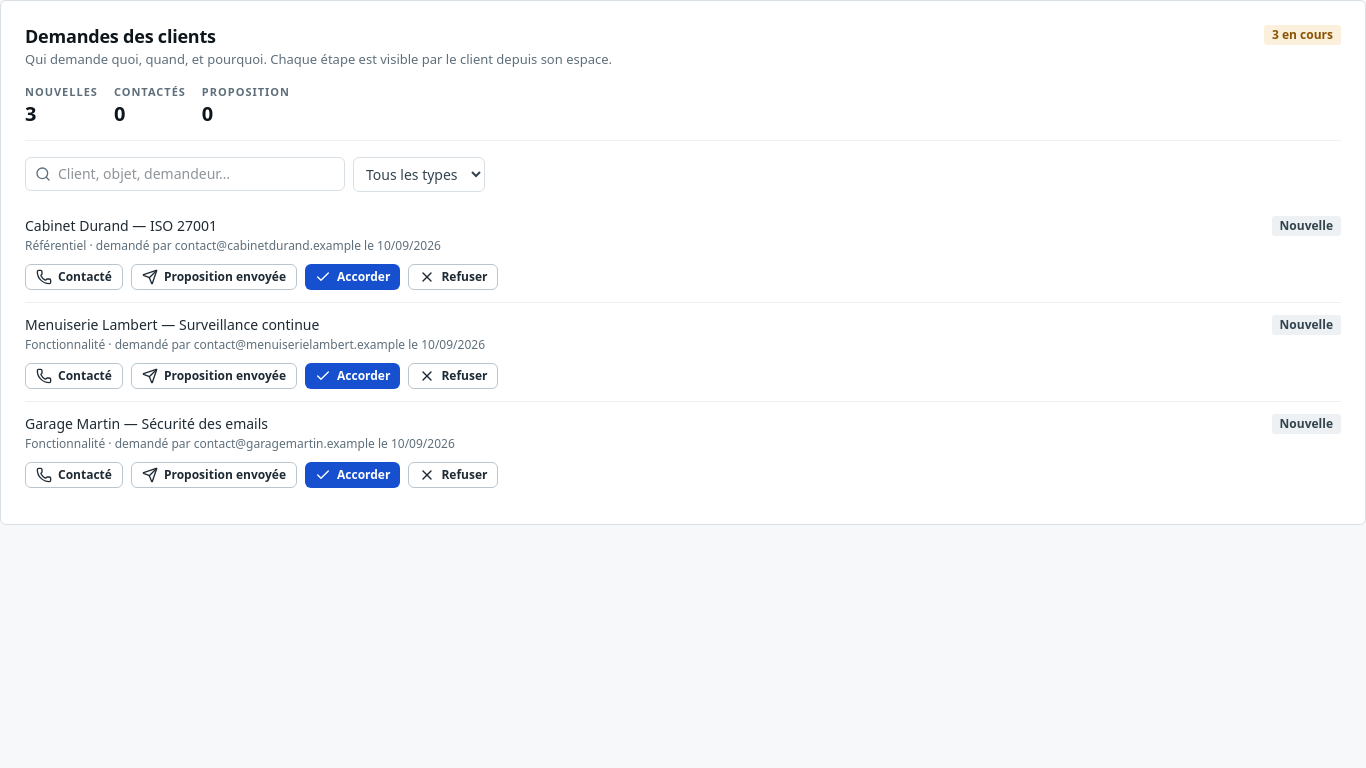
it: RequestsPanel — chercher dans la file › ne présente pas une recherche vide comme une file vide
Step 1. Type "inexistant" into the search field named "Rechercher une demande" → (185, 174), box [25,157,345,191]
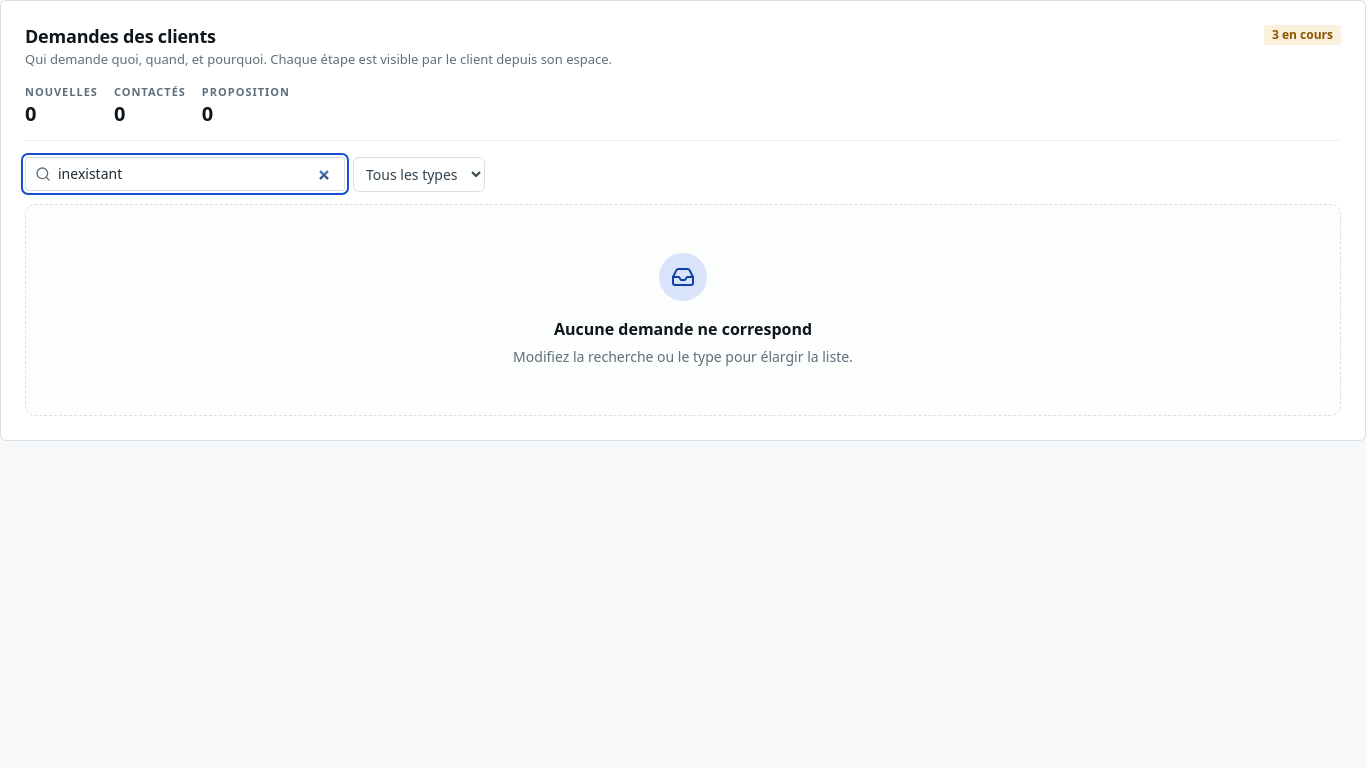
Result: the text "Aucune demande ne correspond" is shown at [554,316,812,340]
